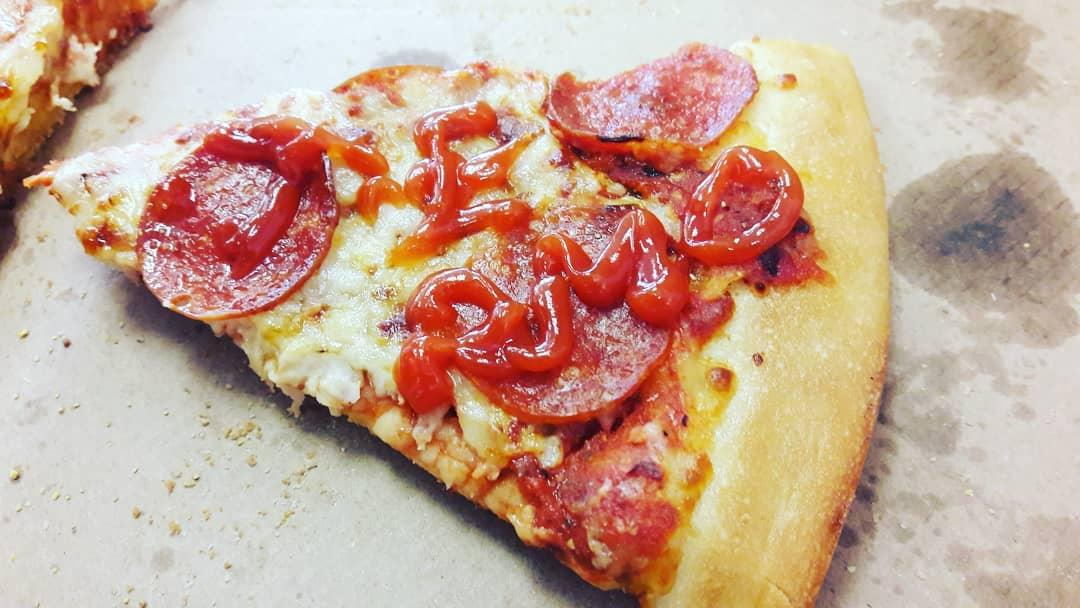Pepperoni: (459, 217, 676, 424), (139, 129, 338, 318), (547, 43, 758, 152)
Pizza: (43, 43, 891, 608)
